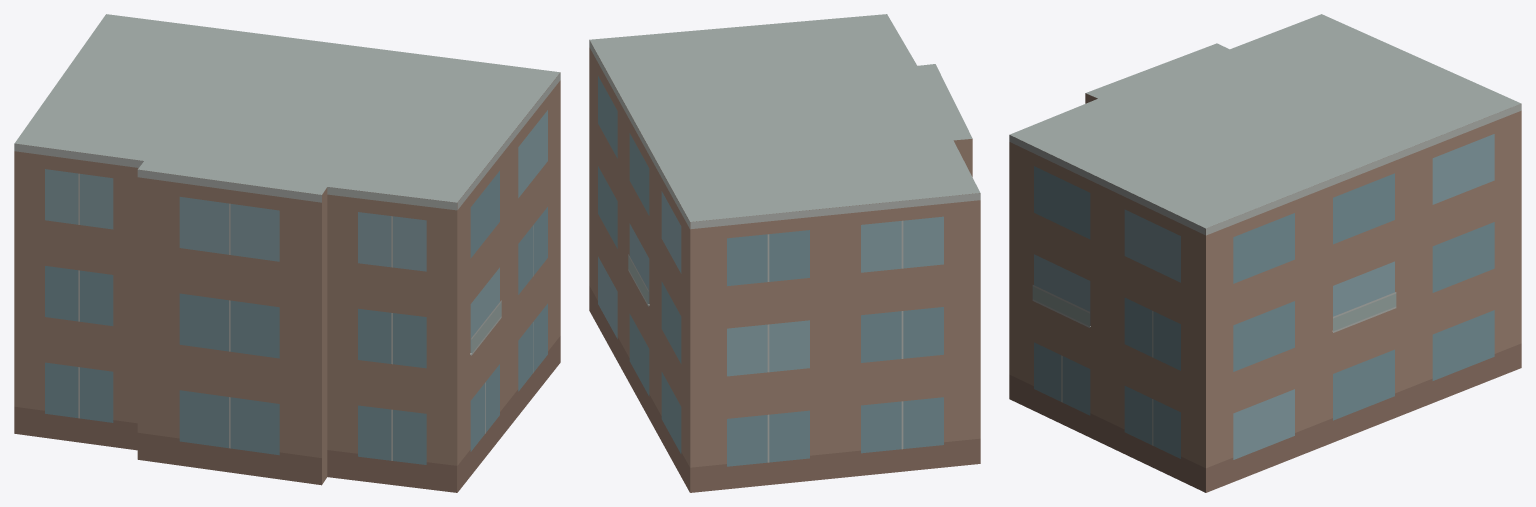
Rendered from survey-upis-32710078.glb.
3 renders of one model, left to right at view 1: azimuth 30°, elevation 25°; view 2: azimuth 150°, elevation 25°; view 3: azimuth 270°, elevation 25°, orthographic. The views are drawn at different scales.
Visible parts, largest first — view 1: survey-upis-32710078.tmp; view 2: survey-upis-32710078.tmp; view 3: survey-upis-32710078.tmp.
Part boxes in pixels (x1=…): survey-upis-32710078.tmp: x1=14, y1=14, x2=560, y2=492; survey-upis-32710078.tmp: x1=589, y1=14, x2=980, y2=492; survey-upis-32710078.tmp: x1=1009, y1=14, x2=1521, y2=492.
Size of the model in its own units: 15.93 by 9.15 by 16.07.
